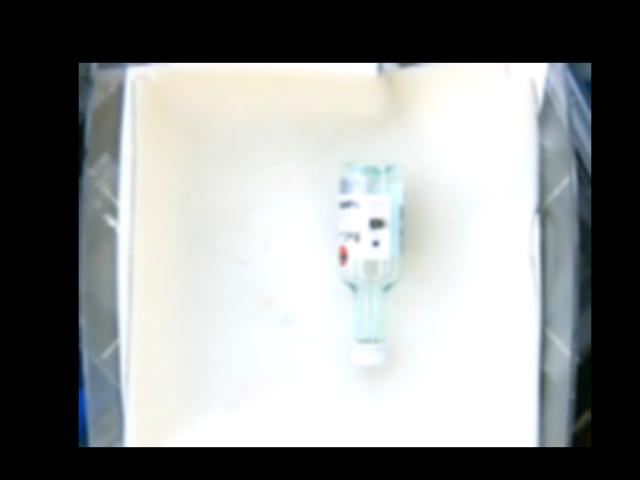Bottle: (338, 160, 403, 366)
